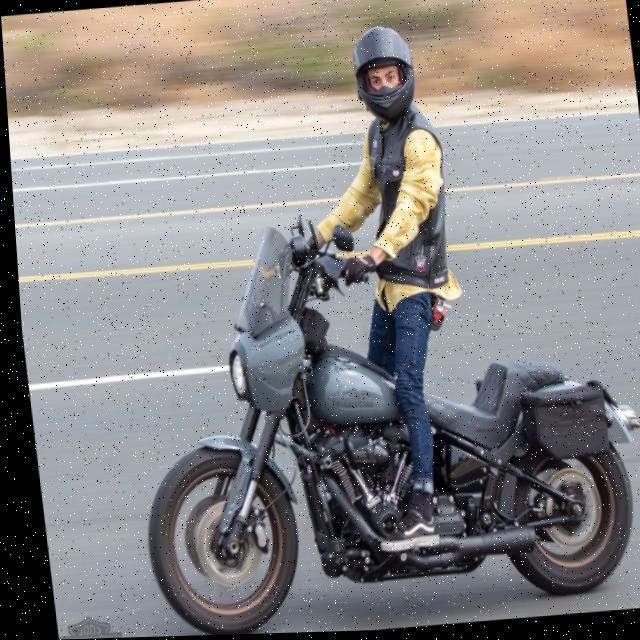helmet: (345, 24, 422, 131)
